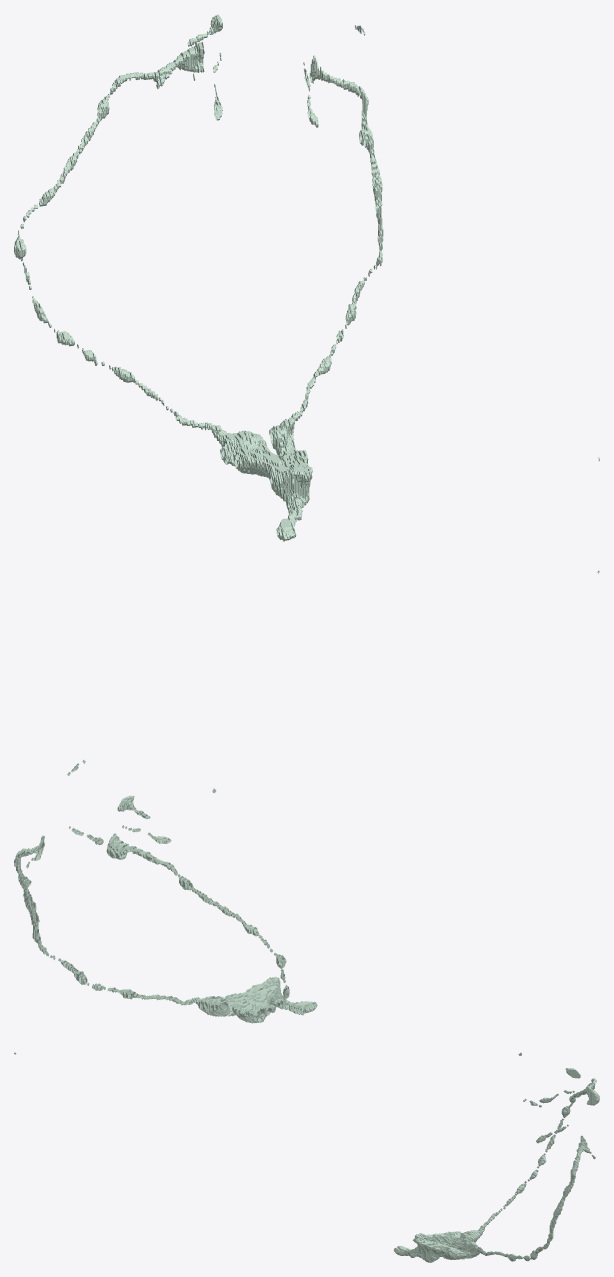
Rendered from SVV_RMED.gltf.
3 views of the same model, one above another, from view 1: azimuth 30°, elevation 25°; view 2: azimuth 150°, elevation 25°; view 3: azimuth 270°, elevation 25° (orthographic). The views are drawn at different scales.
Visible parts, largest first — view 1: RMED; view 2: RMED; view 3: RMED.
Part boxes in pixels (left/top/right/bottom): RMED: left=14, top=14, right=599, bottom=541; RMED: left=14, top=570, right=599, bottom=1023; RMED: left=14, top=1052, right=599, bottom=1262.
Bounding box in the file's own units: 112832 × 115403 × 292363.
